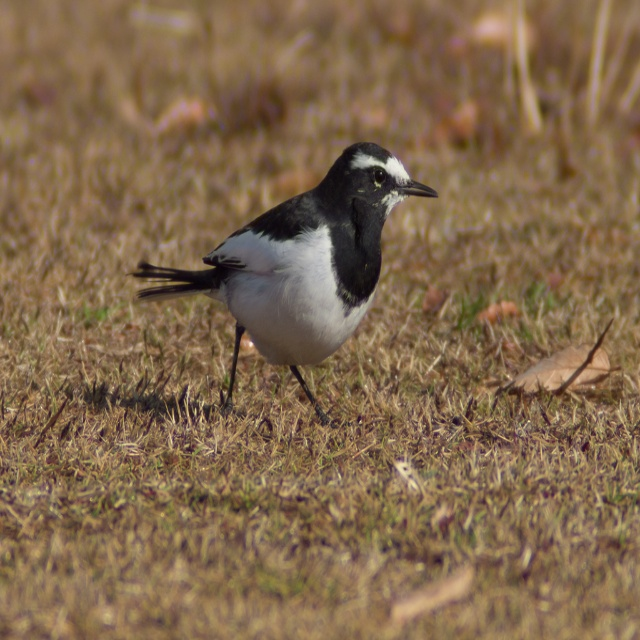Magpie: (125, 140, 438, 428)
